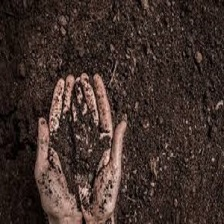loamy_soil: (36, 87, 124, 201)
